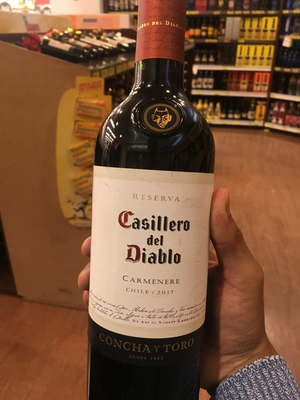casillero del diablo carmenere: (78, 23, 226, 400)
